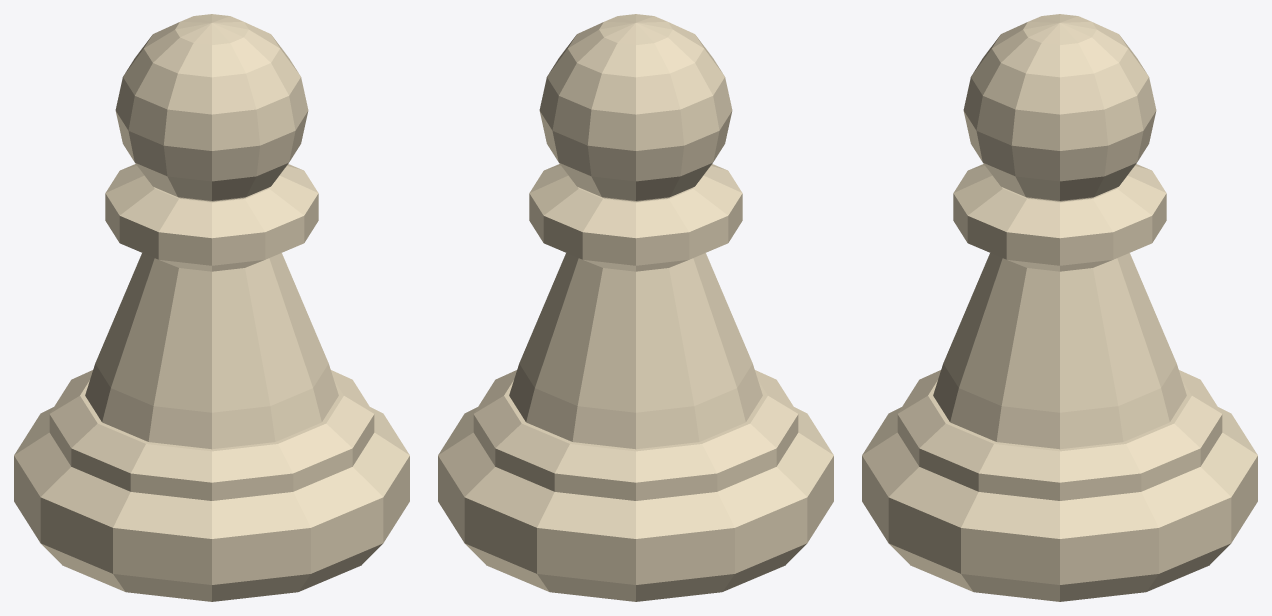
File: pawn.glb
The picture shows the model from 3 angles, left to right: view 1: azimuth 30°, elevation 25°; view 2: azimuth 150°, elevation 25°; view 3: azimuth 270°, elevation 25°; orthographic projection.
Parts seen in each view (by area): view 1: pawn; view 2: pawn; view 3: pawn.
Part boxes in pixels (box(x1,y1,x2,y2)): pawn: box(14, 14, 409, 601); pawn: box(438, 14, 833, 601); pawn: box(862, 14, 1257, 601).
Bounding box in the file's own units: 0.78 × 1.1 × 0.78.
